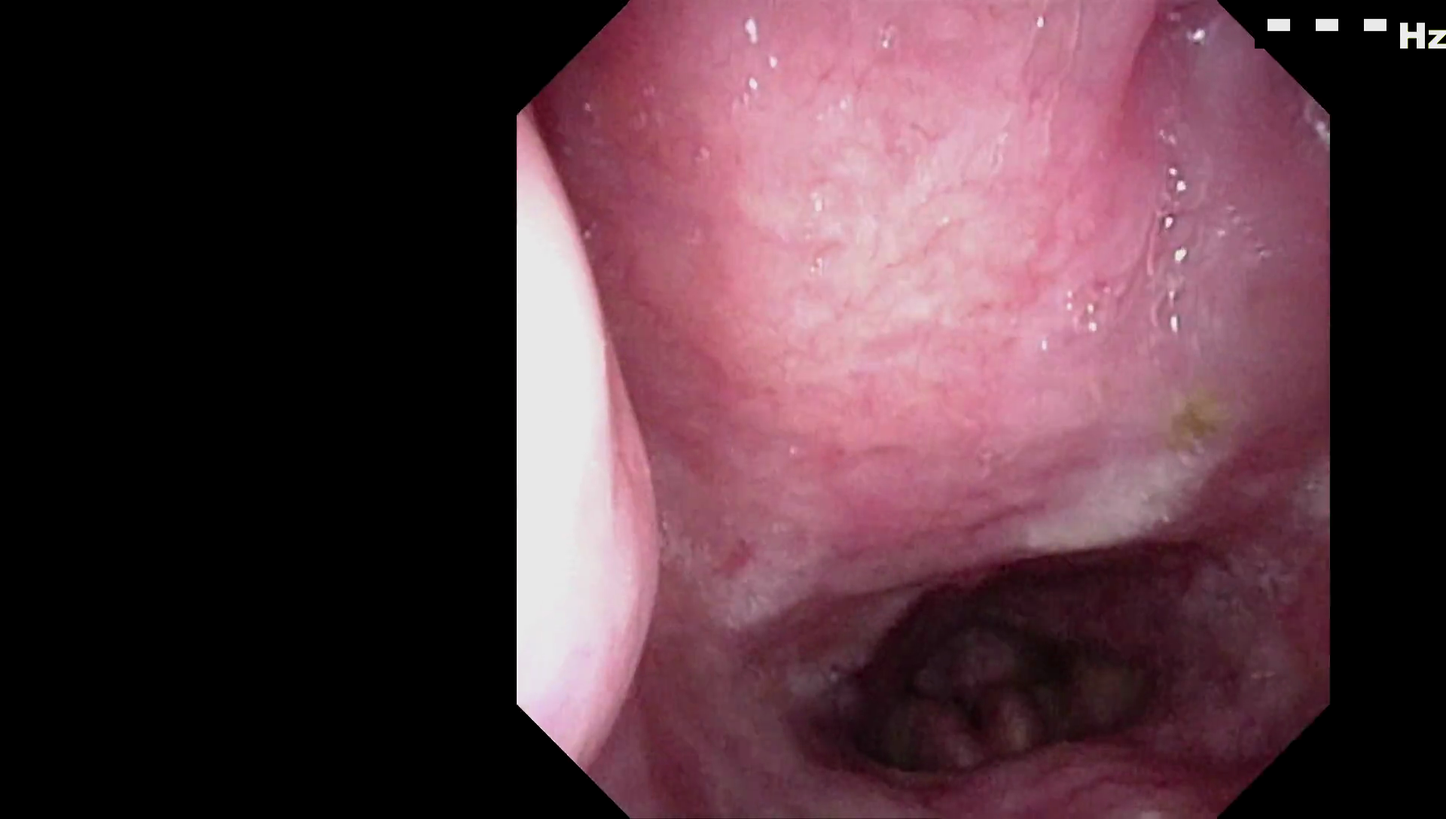close_wall: (715, 16, 1156, 473), (515, 135, 673, 759)
next: (853, 567, 1142, 799)
